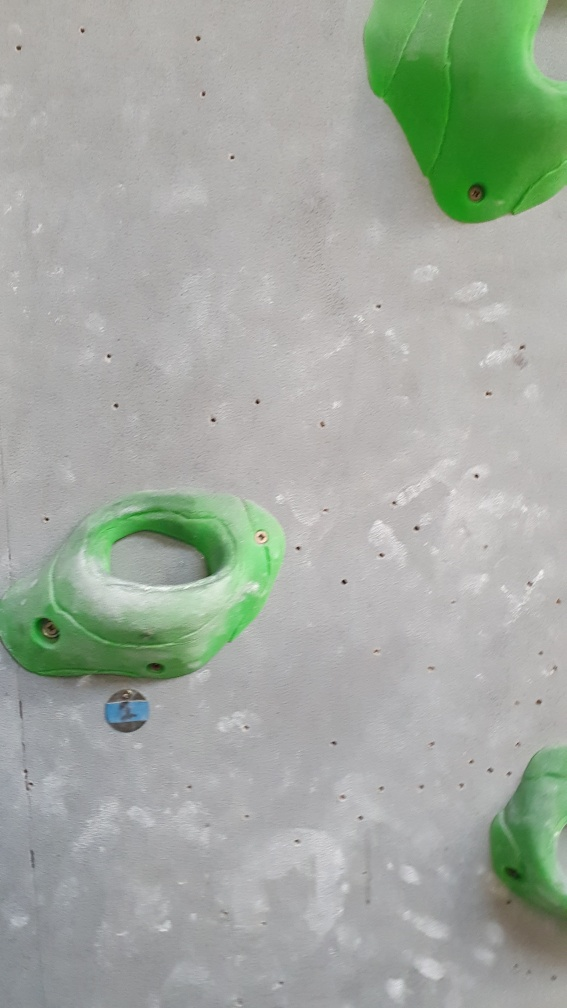Hand Start: (105, 688, 150, 737)
Pocket: (1, 485, 290, 684)
